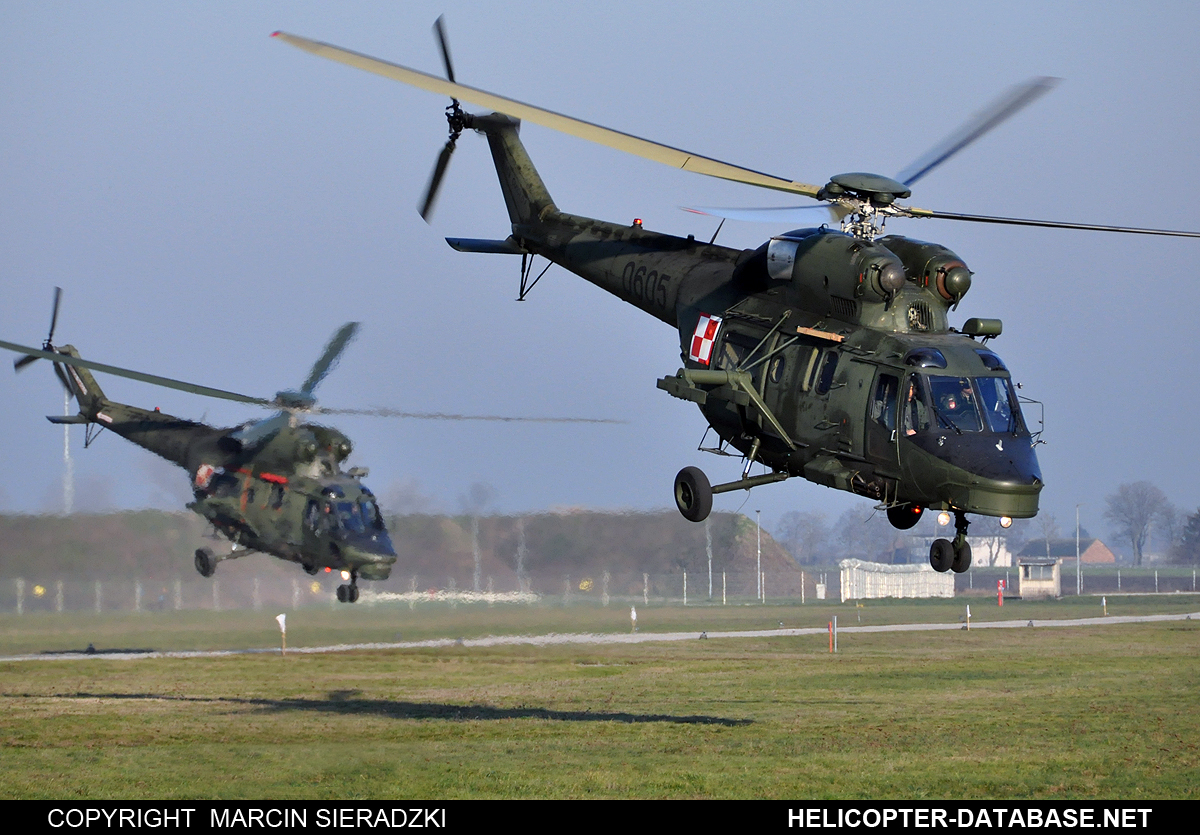number: (616, 257, 672, 315)
